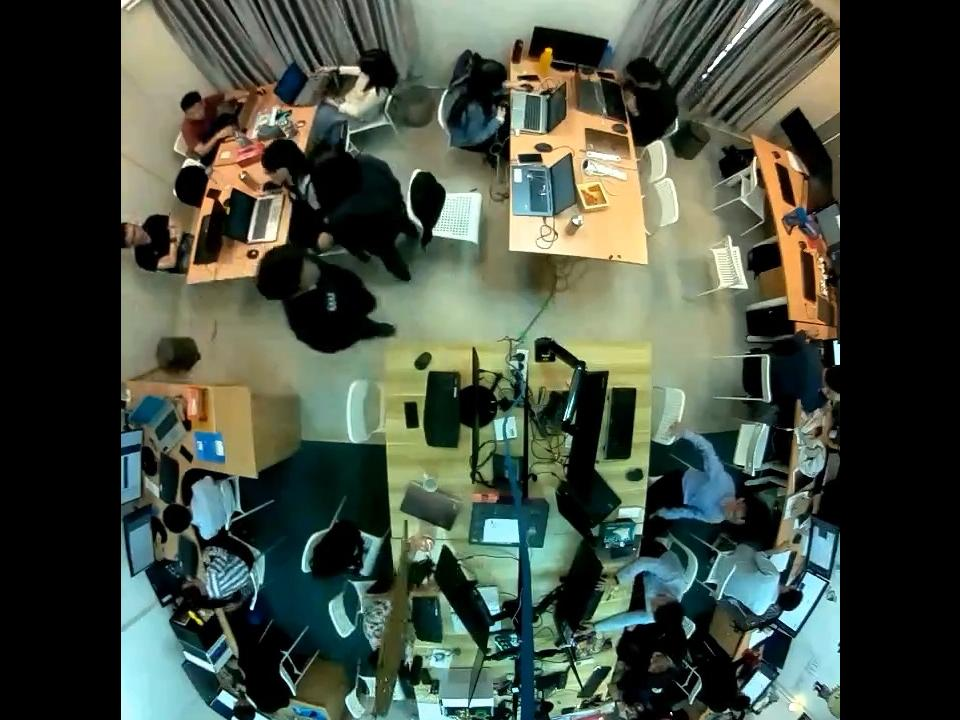name-tag: (318, 290, 340, 314)
